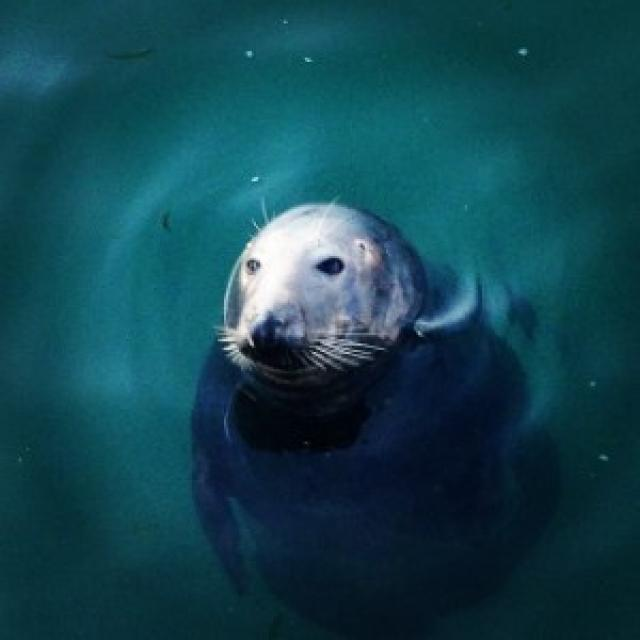Seal: (195, 191, 556, 616)
